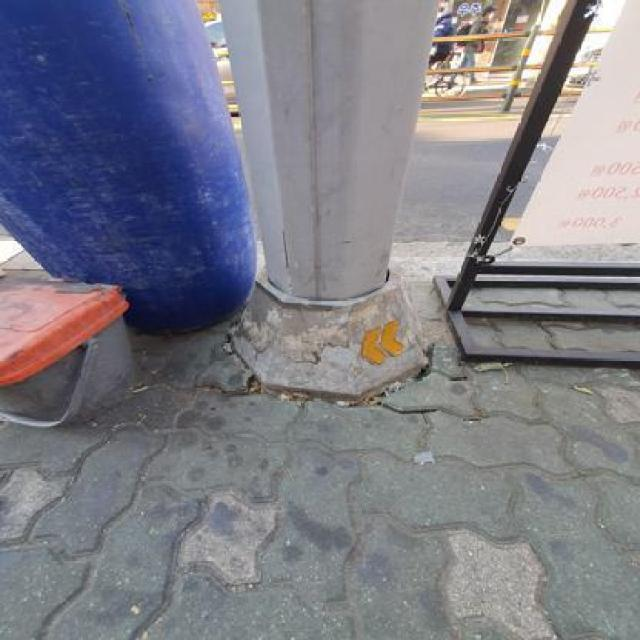pole: (211, 20, 443, 417)
